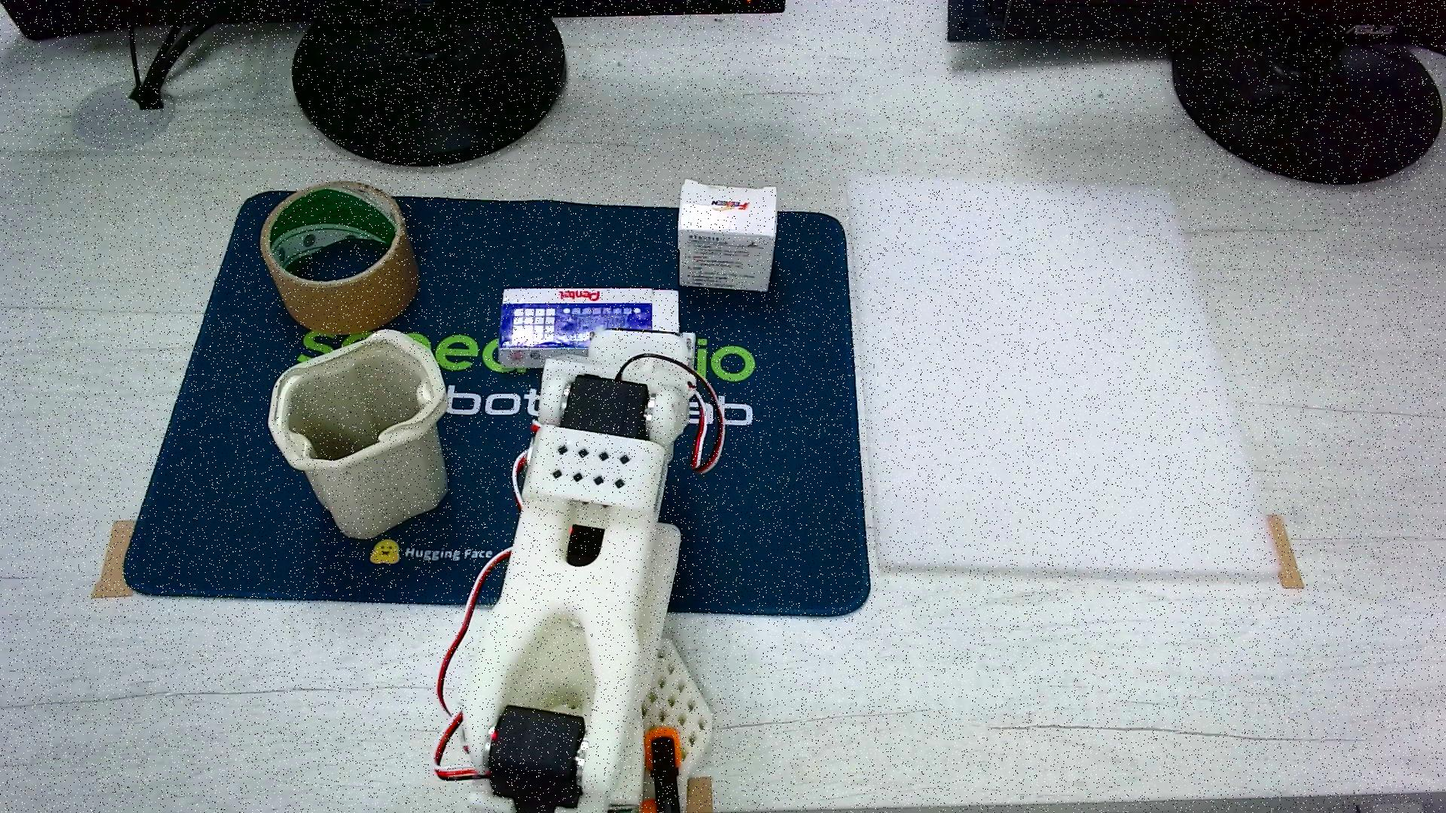eraser: (677, 179, 776, 291)
